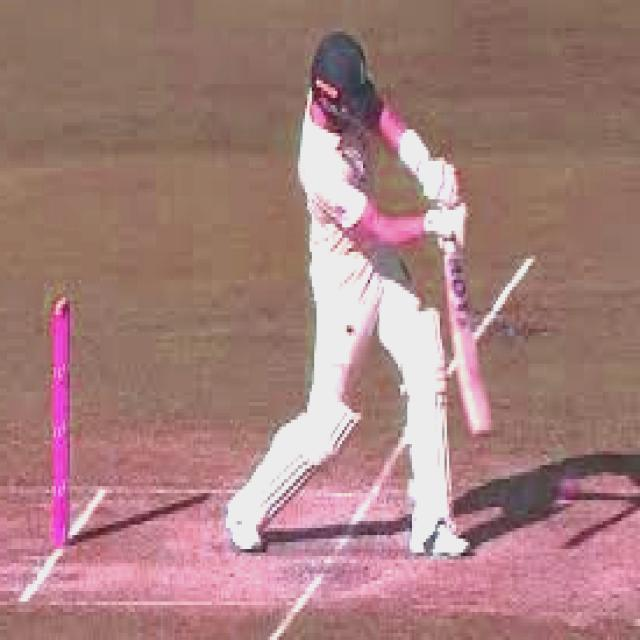bat: (436, 254, 501, 444)
toe: (464, 423, 501, 443)
